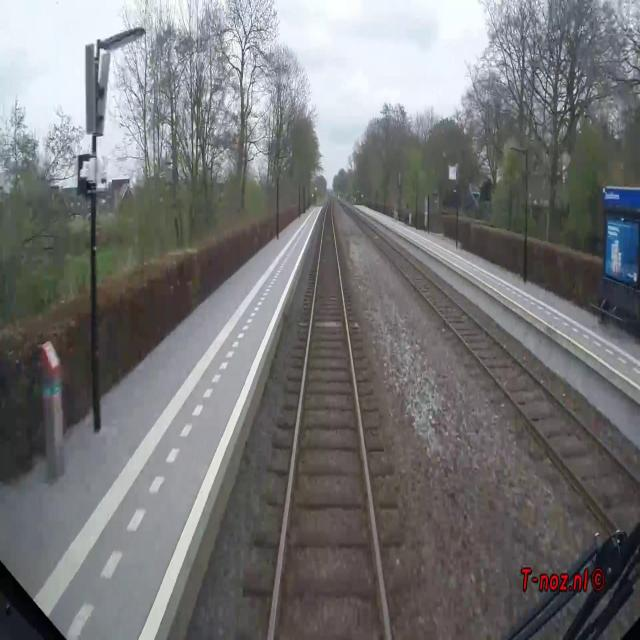rail-track: (340, 203, 640, 535), (272, 199, 385, 639)
